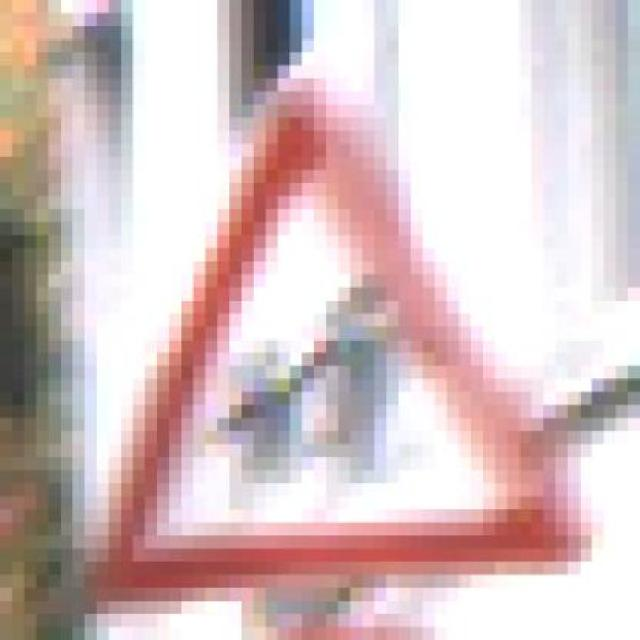Beware of children: (72, 65, 605, 613)
